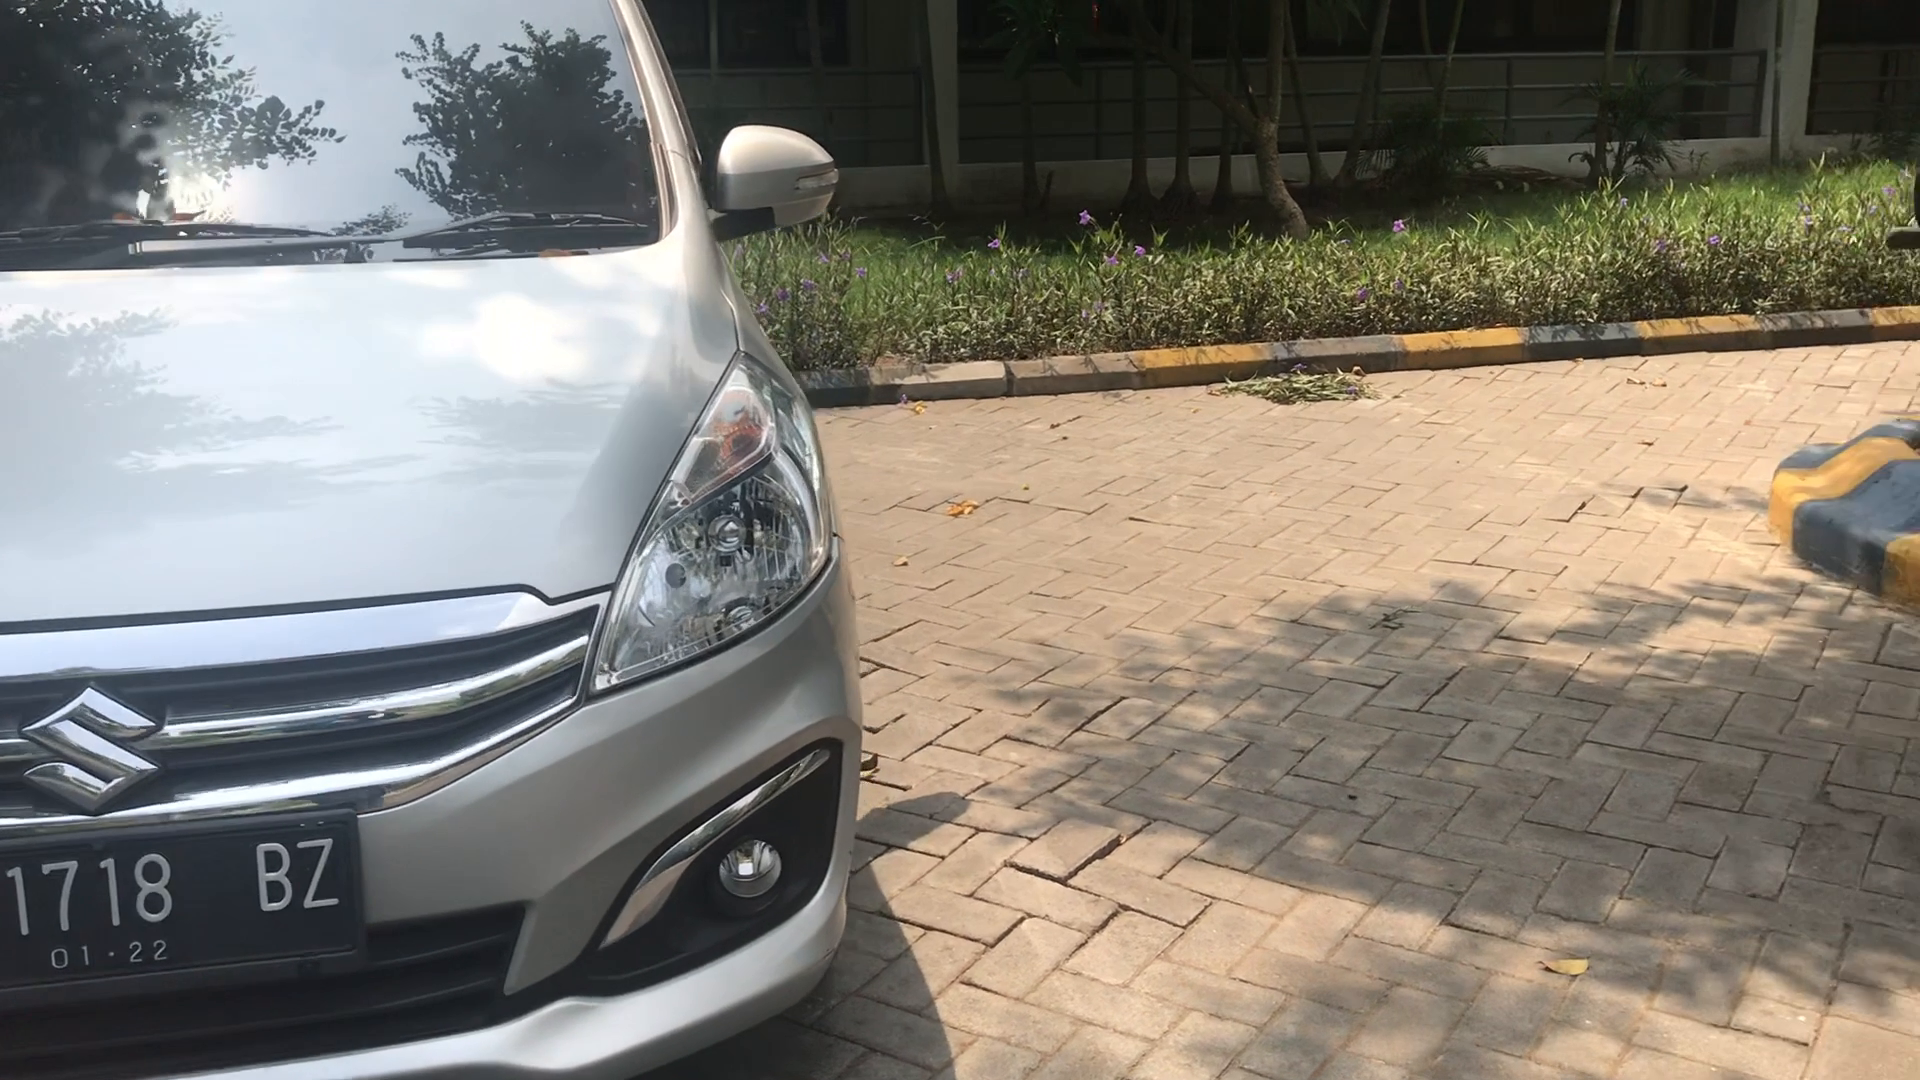plate: (1, 810, 350, 981)
